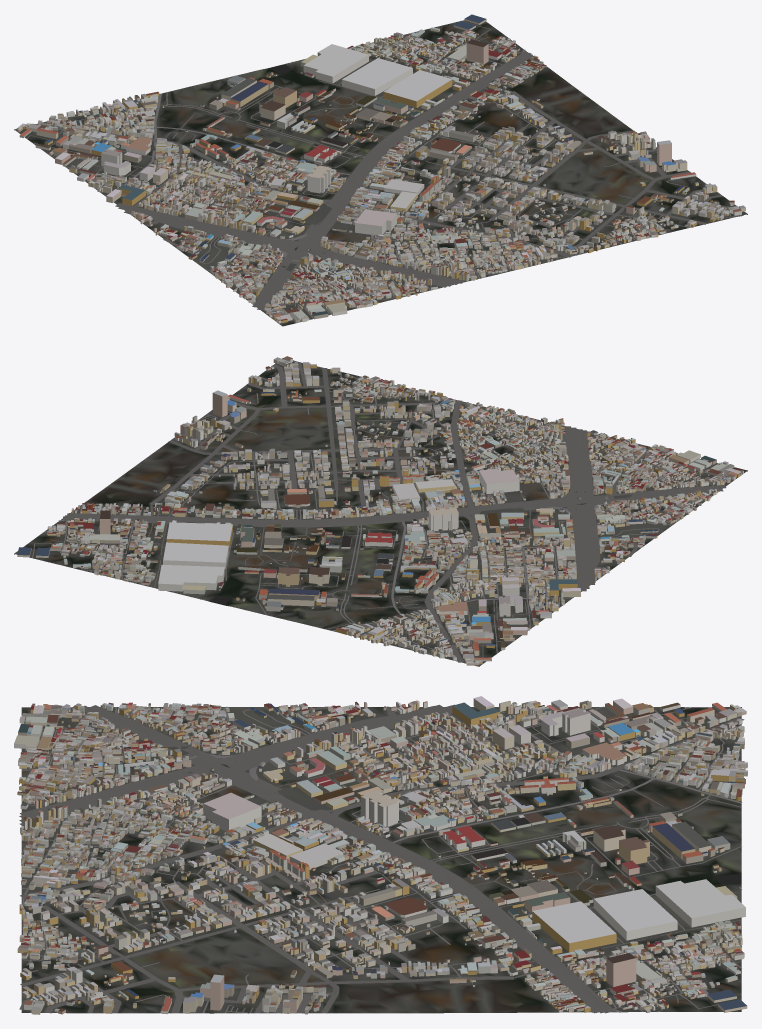
3 renders of one model, top to bottom at view 1: azimuth 30°, elevation 25°; view 2: azimuth 150°, elevation 25°; view 3: azimuth 270°, elevation 25°, orthographic. The views are drawn at different scales.
Parts seen in each view (by area): view 1: buildings, ground, roads; view 2: buildings, ground, roads; view 3: buildings, ground, roads.
Boxes of the visible parts, left/top/right/bottom form: buildings: left=17, top=14, right=745, bottom=323; ground: left=14, top=20, right=747, bottom=326; roads: left=16, top=21, right=744, bottom=321; buildings: left=17, top=356, right=743, bottom=665; ground: left=14, top=358, right=747, bottom=666; roads: left=32, top=360, right=726, bottom=666; buildings: left=14, top=696, right=747, bottom=1014; ground: left=21, top=707, right=741, bottom=1013; roads: left=19, top=704, right=744, bottom=1013.
Size of the model in its own units: 1422 by 63.11 by 1428.
